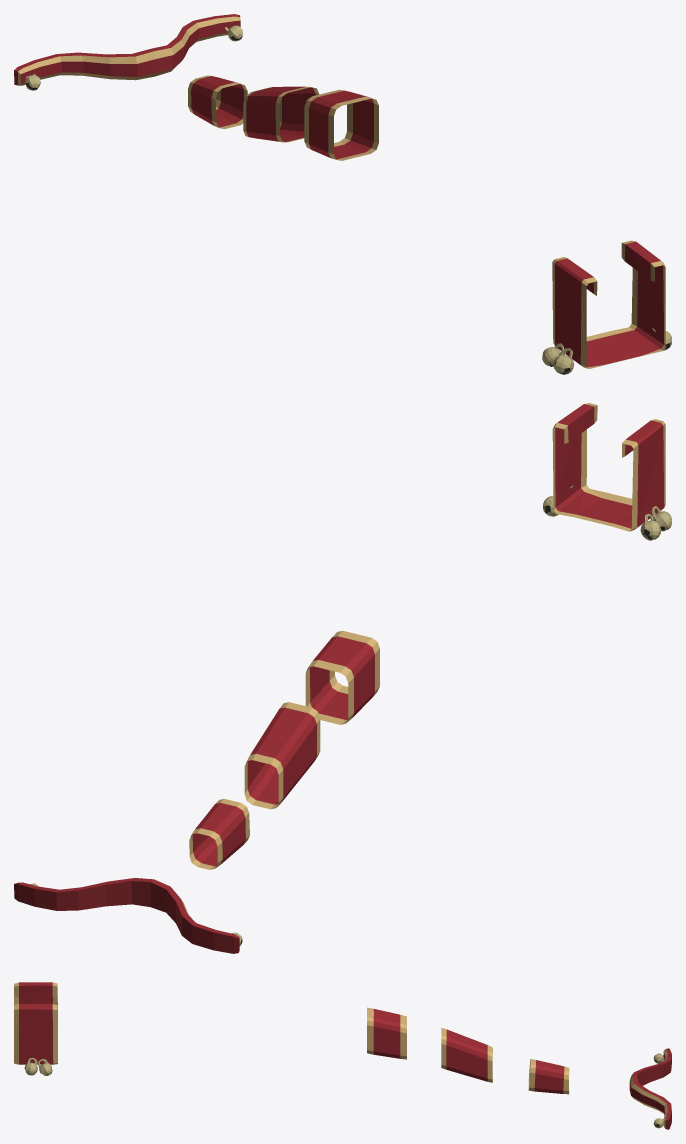
The model's file is repeatingCrossbowJesterHandle.glb.
The picture shows the model from 3 angles, top to bottom: view 1: azimuth 30°, elevation 25°; view 2: azimuth 150°, elevation 25°; view 3: azimuth 270°, elevation 25°; orthographic projection. The views are drawn at different scales.
Visible parts, largest first — view 1: repeatingCrossbowJesterHandle; view 2: repeatingCrossbowJesterHandle; view 3: repeatingCrossbowJesterHandle.
Boxes of the visible parts, bbox=[...] form: repeatingCrossbowJesterHandle: bbox=[14, 14, 671, 374]; repeatingCrossbowJesterHandle: bbox=[14, 403, 671, 953]; repeatingCrossbowJesterHandle: bbox=[14, 982, 671, 1129].
Bounding box in the file's own units: 0.2189 × 0.1423 × 0.8443.
